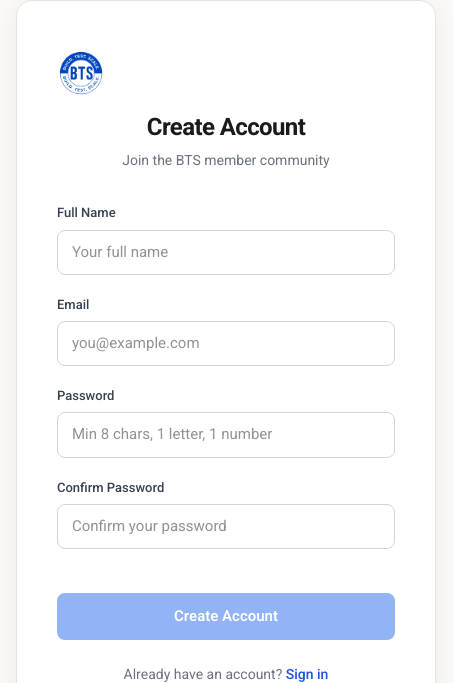
Test: Register — captcha failure resilience › does not allow submission when the widget is present but unsolved (normal path)
Type "New Member" into the field with placeholder "Your full name". click: (226, 252)
box: [57, 230, 395, 275]
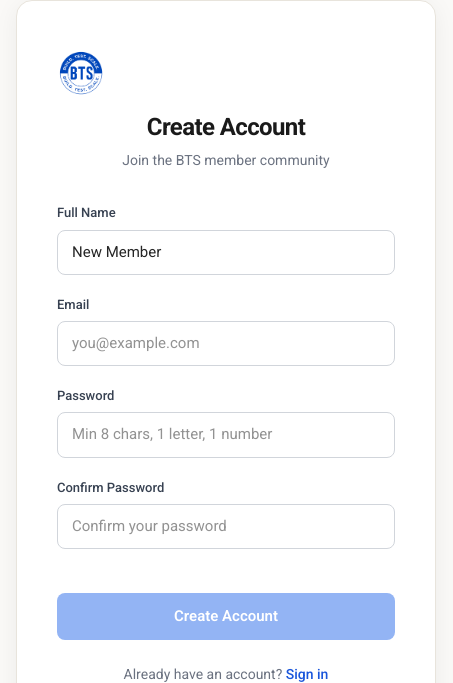
Type "member@example.com" into the field with placeholder "you@example.com". click: (226, 344)
box: [57, 321, 395, 366]
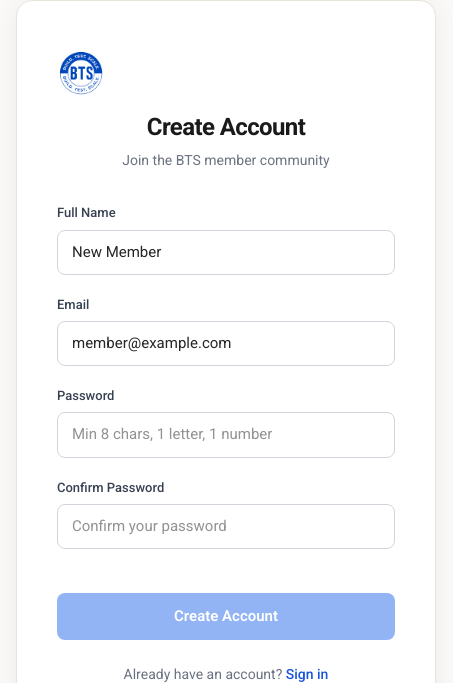
Type "hunter22" into the password field with placeholder "Min 8 chars, 1 letter, 1 number". click: (226, 435)
box: [57, 412, 395, 458]
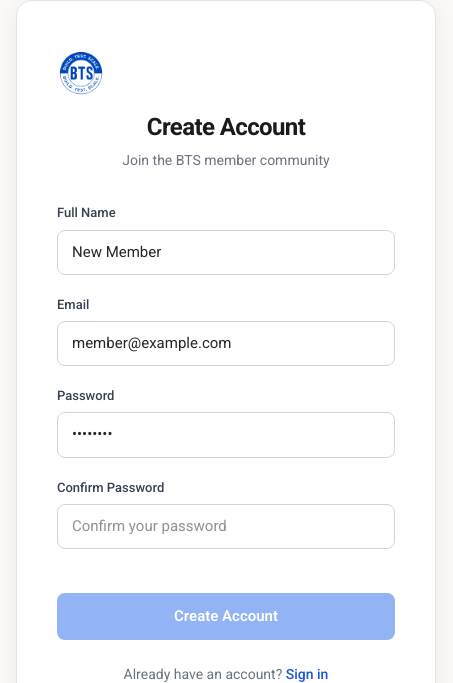
Type "hunter22" into the password field with placeholder "Confirm your password". click: (226, 526)
box: [57, 504, 395, 549]
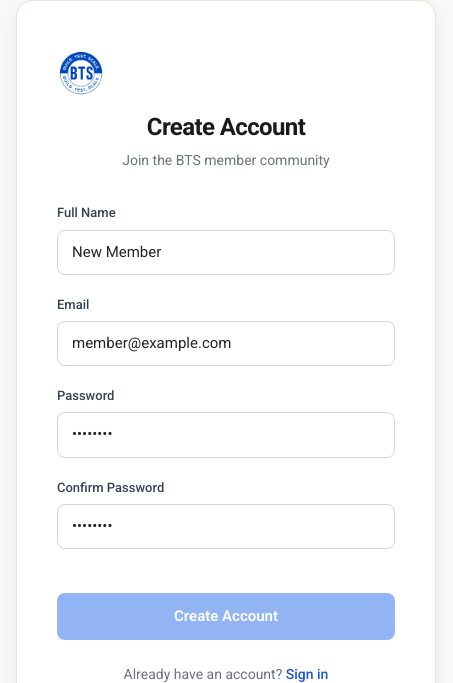
Submit the form "Full Name Email Password Confirm Password Create Account", box [57, 204, 395, 640]
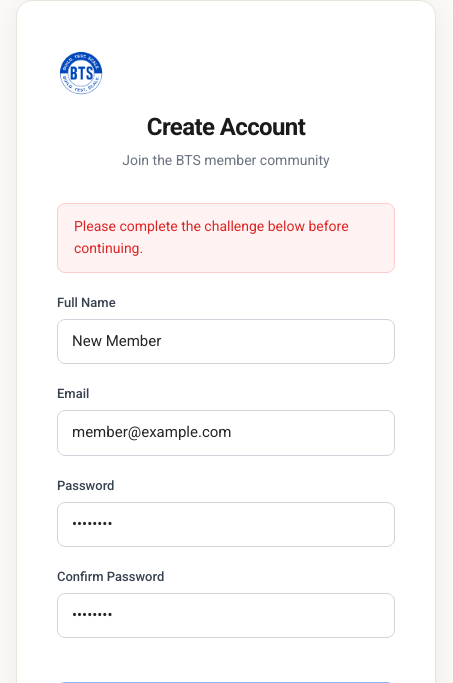
Now the text "Please complete the challenge below before continuing." is shown, box [57, 204, 395, 273]
